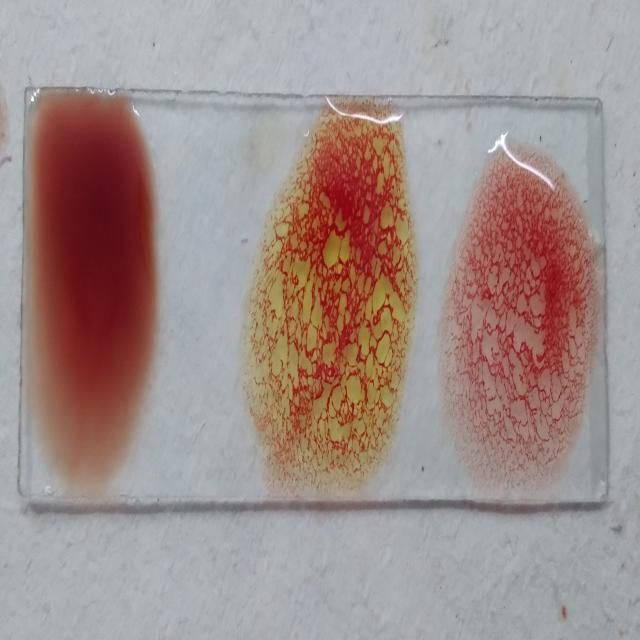B: (252, 101, 416, 495)
D: (444, 132, 596, 494)
